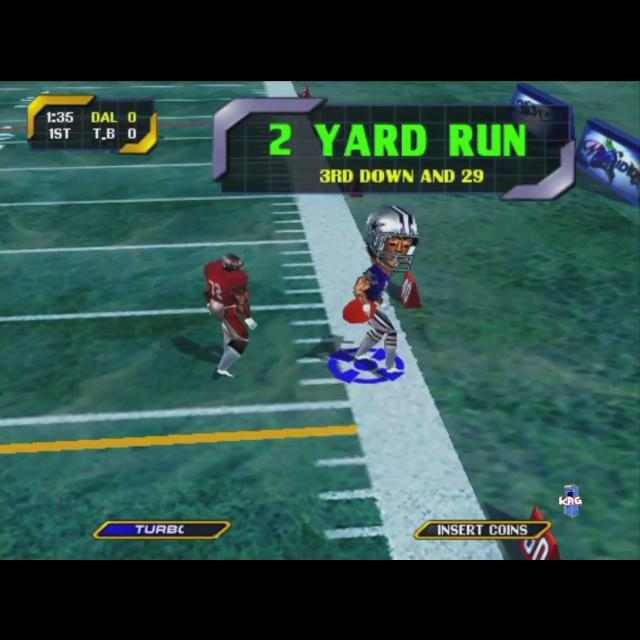player: (349, 203, 419, 373), (203, 252, 259, 380)
